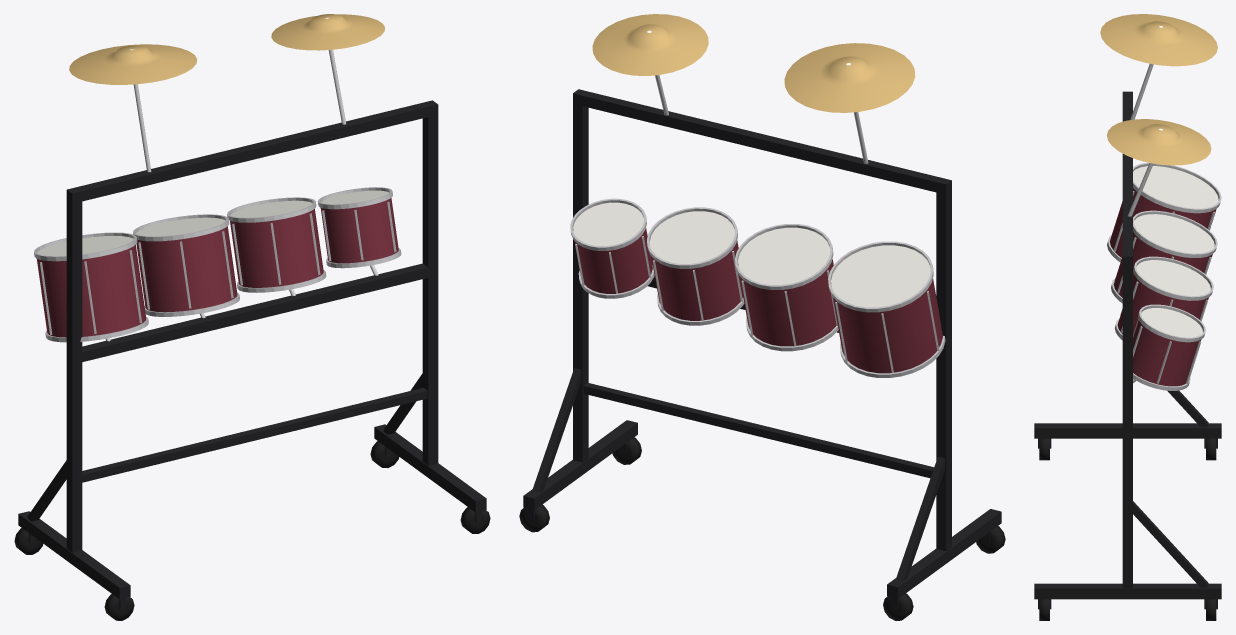
File: aux-rack-toms.glb
3 views of the same model, side by side, from view 1: azimuth 30°, elevation 25°; view 2: azimuth 150°, elevation 25°; view 3: azimuth 270°, elevation 25° (orthographic). The views are drawn at different scales.
Visible parts, largest first — view 1: frame, shell, metal, cymbal, head, rubber; view 2: frame, shell, head, cymbal, metal, rubber; view 3: frame, cymbal, head, shell, metal, rubber.
Boxes of the visible parts, <box> form: frame: <box>18,100,486,609</box>; shell: <box>37,198,398,337</box>; metal: <box>34,49,401,342</box>; cymbal: <box>69,14,384,84</box>; head: <box>37,190,388,256</box>; rubber: <box>14,441,490,620</box>; frame: <box>523,89,1001,609</box>; shell: <box>574,228,942,373</box>; head: <box>573,202,930,307</box>; cymbal: <box>592,14,915,112</box>; metal: <box>570,75,945,377</box>; rubber: <box>519,437,1005,620</box>; frame: <box>1034,91,1221,609</box>; cymbal: <box>1100,14,1217,165</box>; head: <box>1133,166,1218,337</box>; shell: <box>1110,188,1216,386</box>; metal: <box>1107,63,1221,390</box>; rubber: <box>1039,438,1216,620</box>.
Size of the model in its own units: 1.56 by 1.98 by 0.7207.
